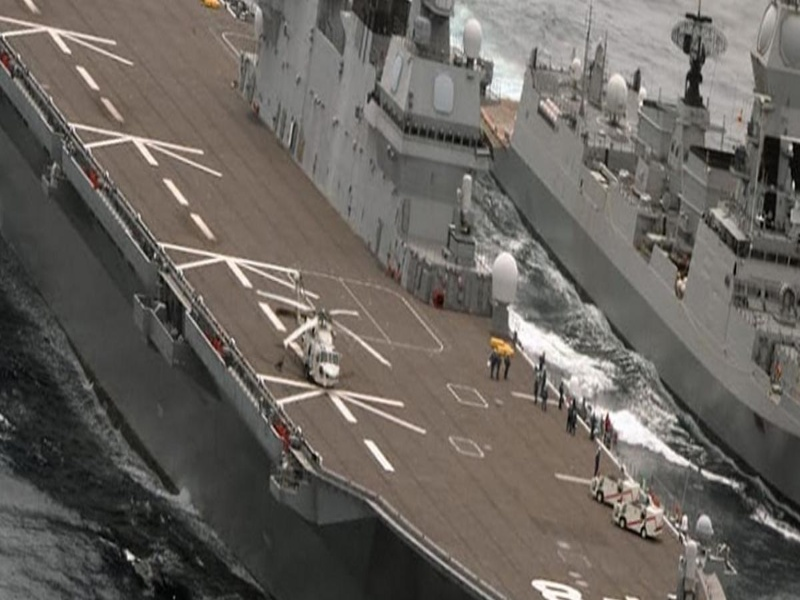carrier: (13, 7, 700, 593)
cruise: (528, 34, 800, 501)
